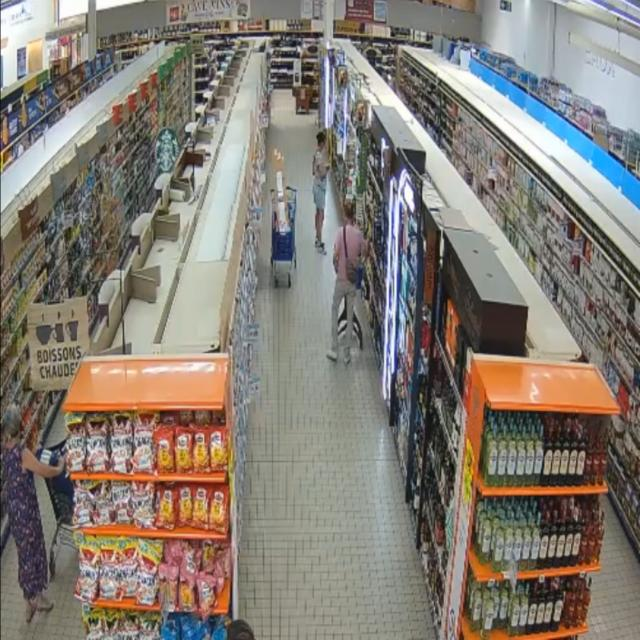bags: (344, 226, 360, 286)
hands: (56, 458, 64, 475), (325, 166, 330, 172)
person: (2, 406, 63, 622), (327, 208, 368, 363), (312, 132, 330, 255)
